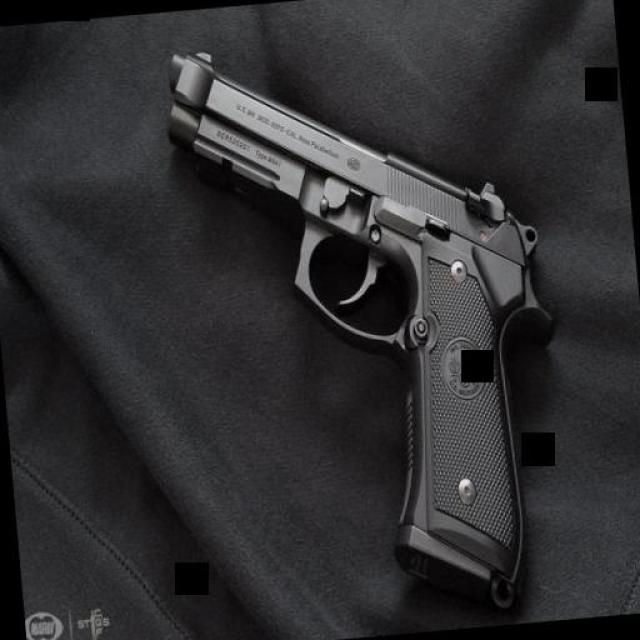gun: (156, 12, 575, 638)
